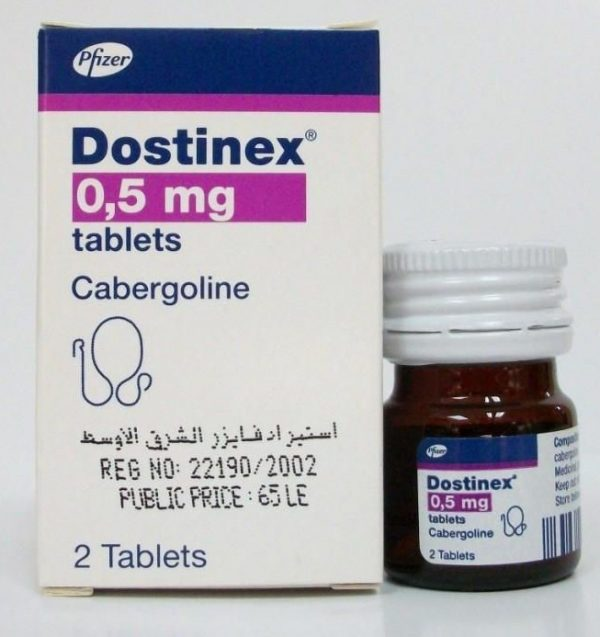Medicine: (30, 17, 392, 597), (375, 233, 593, 595)
